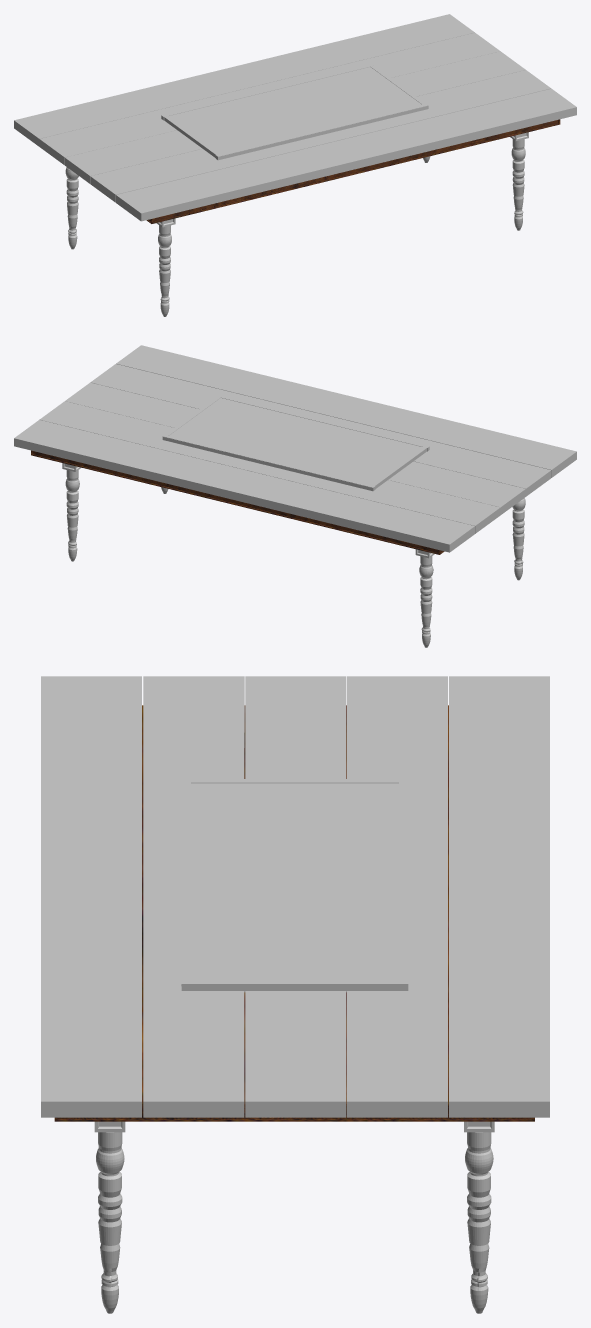
Rendered from стол-для-игры6.fbx.
3 views of the same model, one above another, from view 1: azimuth 30°, elevation 25°; view 2: azimuth 150°, elevation 25°; view 3: azimuth 270°, elevation 25° (orthographic). The views are drawn at different scales.
Parts seen in each view (by area): view 1: Plane.002; view 2: Plane.002; view 3: Plane.002.
Boxes of the visible parts, left/top/right/bottom form: Plane.002: left=14, top=14, right=576, bottom=316; Plane.002: left=14, top=345, right=576, bottom=647; Plane.002: left=41, top=676, right=549, bottom=1313.
Size of the model in its own units: 28.96 by 14.65 by 8.2.
